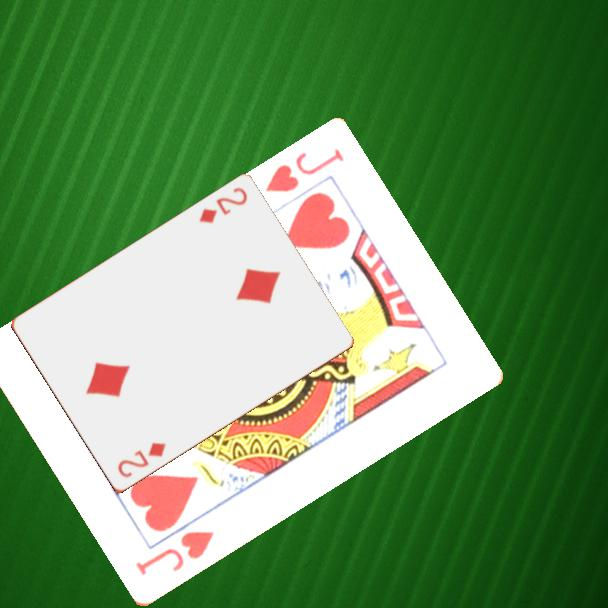d02: (195, 184, 250, 227), (114, 439, 169, 481)
h11: (131, 528, 217, 579), (262, 145, 347, 196)
